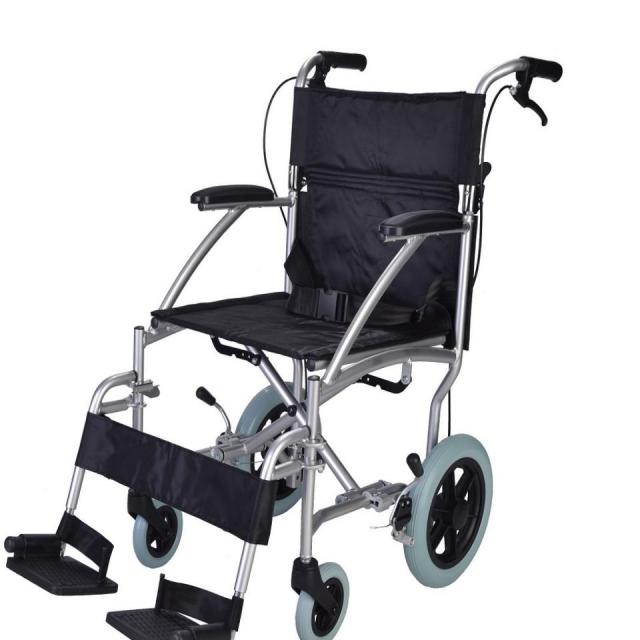wheelchair: (0, 46, 570, 640)
